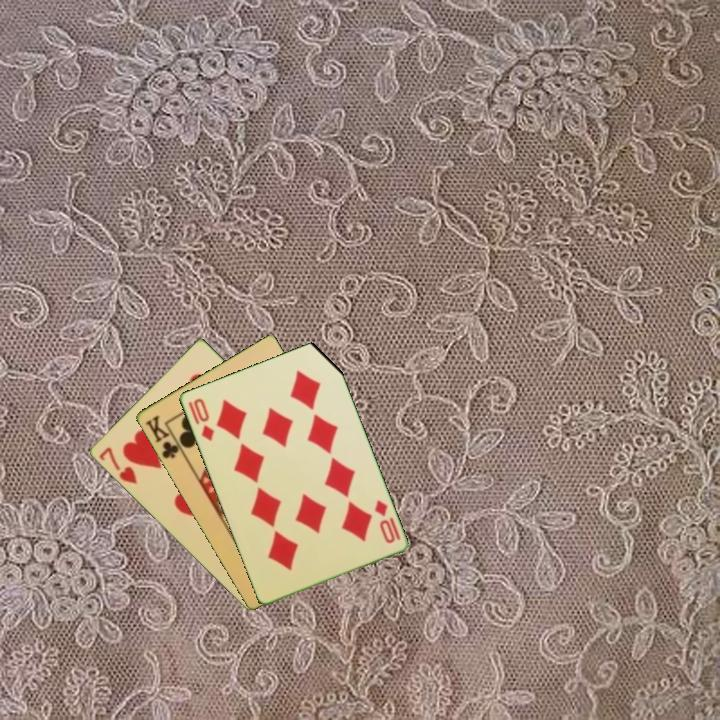10d: (184, 394, 217, 444), (371, 496, 403, 546)
7h: (95, 444, 140, 487)
Kc: (141, 411, 186, 462)
